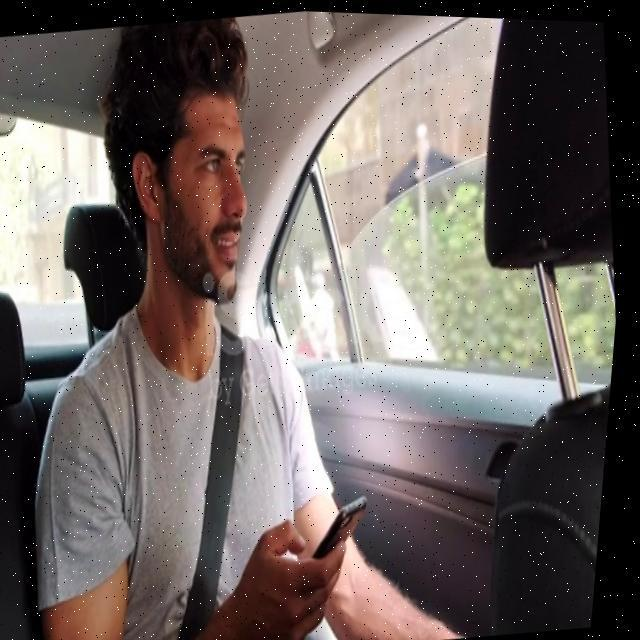PhoneCall: (304, 482, 384, 574)
